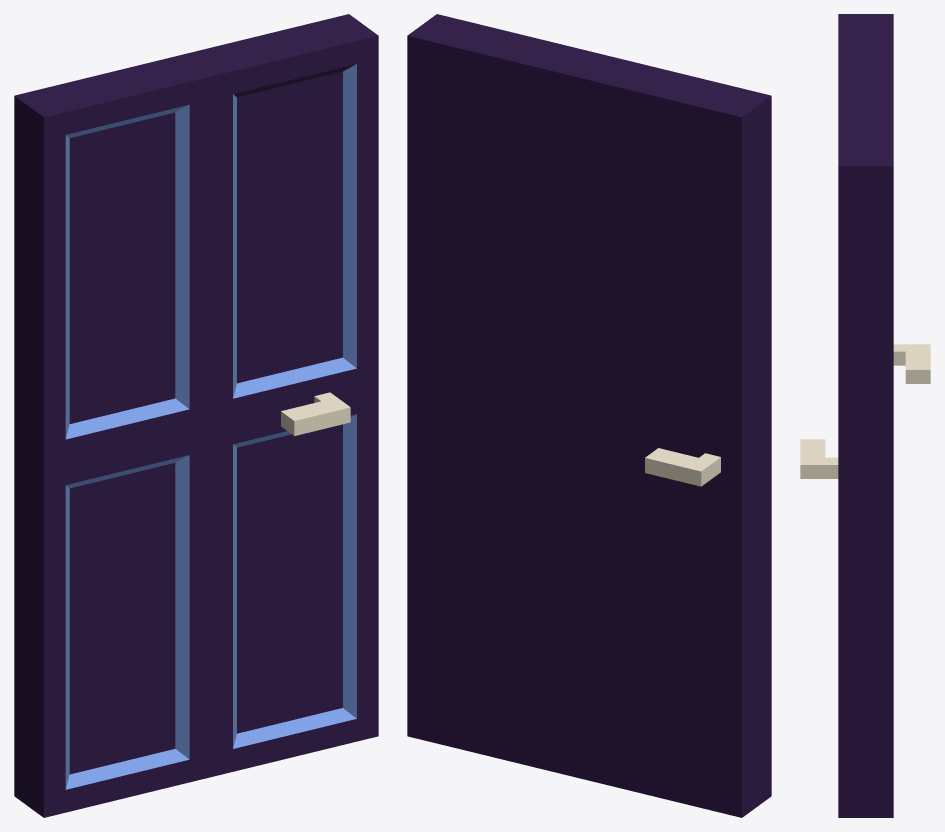
The model's file is deur 2.fbx.
The picture shows the model from 3 angles, left to right: view 1: azimuth 30°, elevation 25°; view 2: azimuth 150°, elevation 25°; view 3: azimuth 270°, elevation 25°; orthographic projection. The views are drawn at different scales.
Visible parts, largest first — view 1: polySurface3; view 2: polySurface3; view 3: polySurface3.
Boxes of the visible parts, x1,y1,x2,y2 form: polySurface3: (14, 14, 378, 817); polySurface3: (407, 14, 771, 817); polySurface3: (800, 14, 930, 817).
Size of the model in its own units: 1.64 by 3.27 by 0.5926.
1 material, 1 textured.
